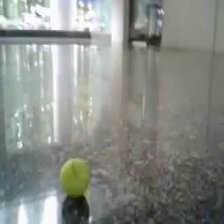tennis: (59, 158, 87, 197)
